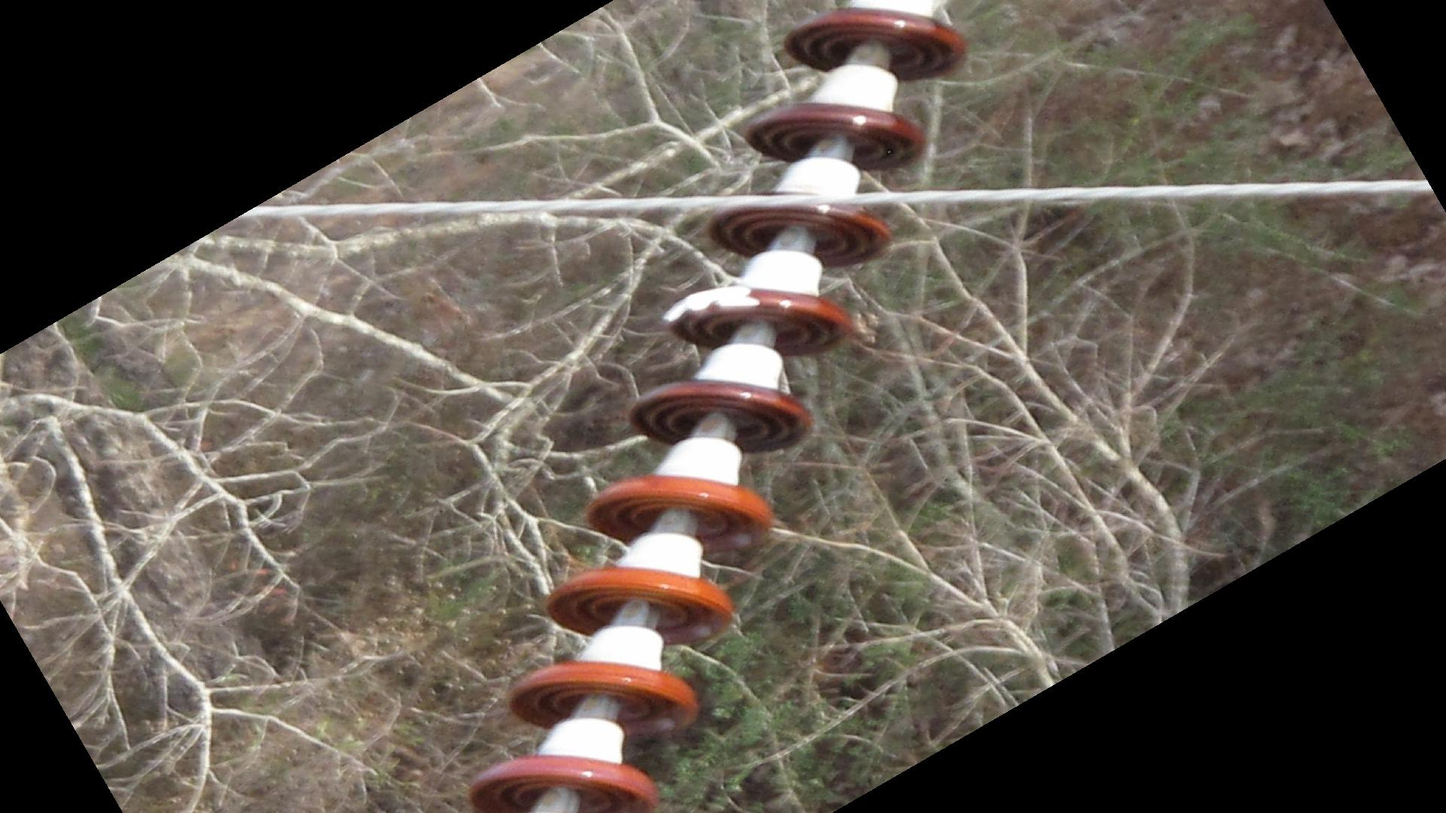insulator: (456, 1, 975, 813)
insulator_breakage: (657, 282, 765, 326)
